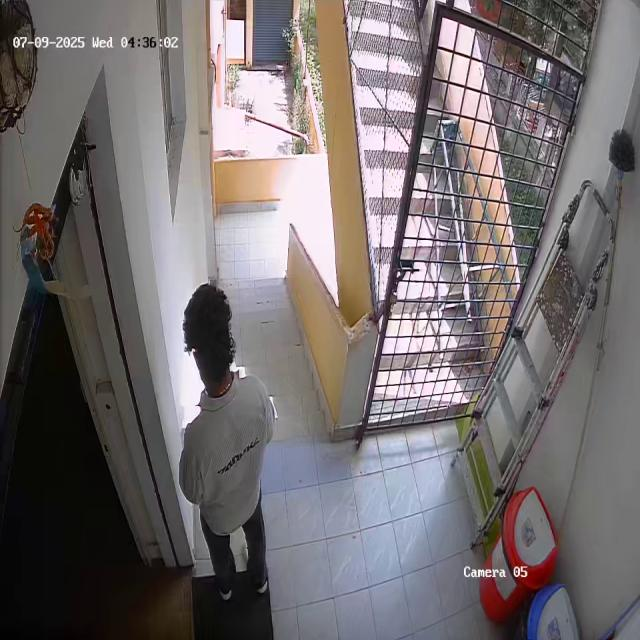person: (174, 282, 279, 606)
